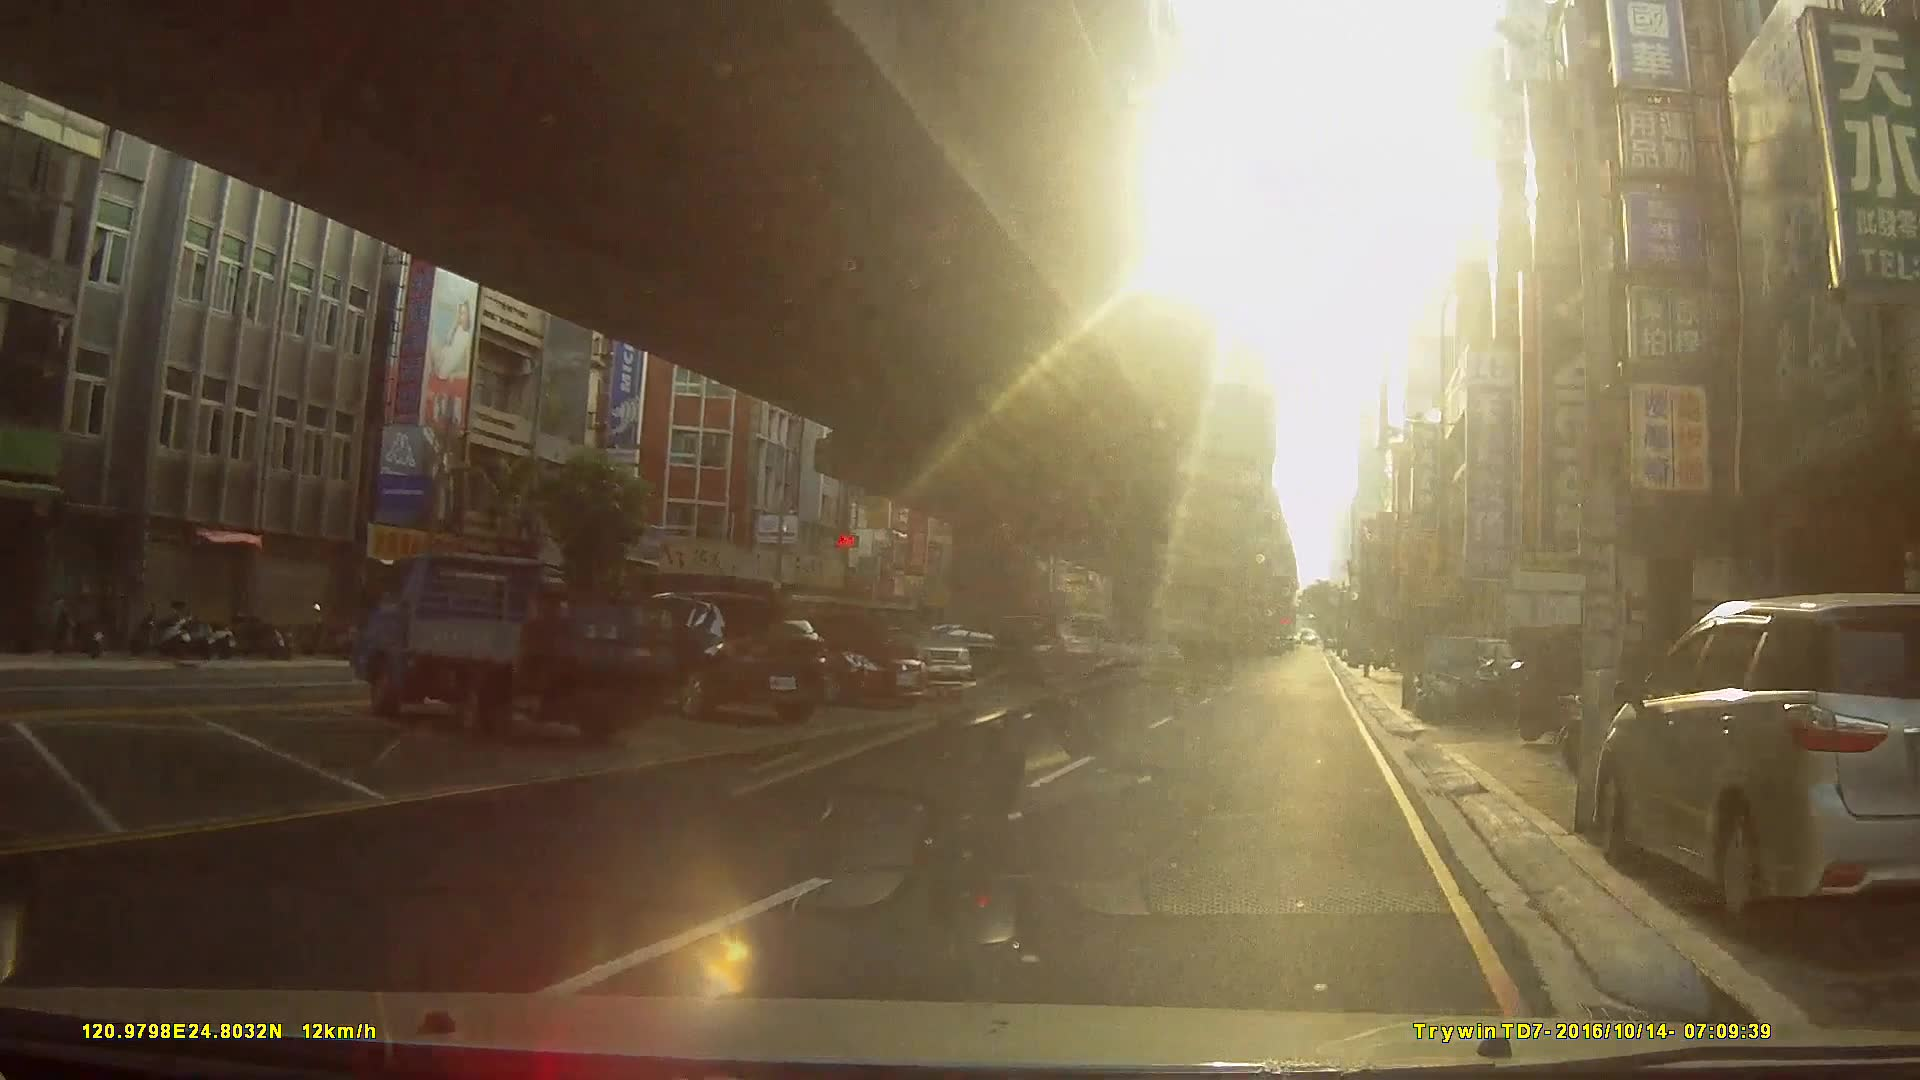vehicle: (1592, 589, 1919, 928), (348, 549, 684, 742), (617, 589, 825, 721), (748, 605, 924, 705), (902, 621, 1052, 682)
